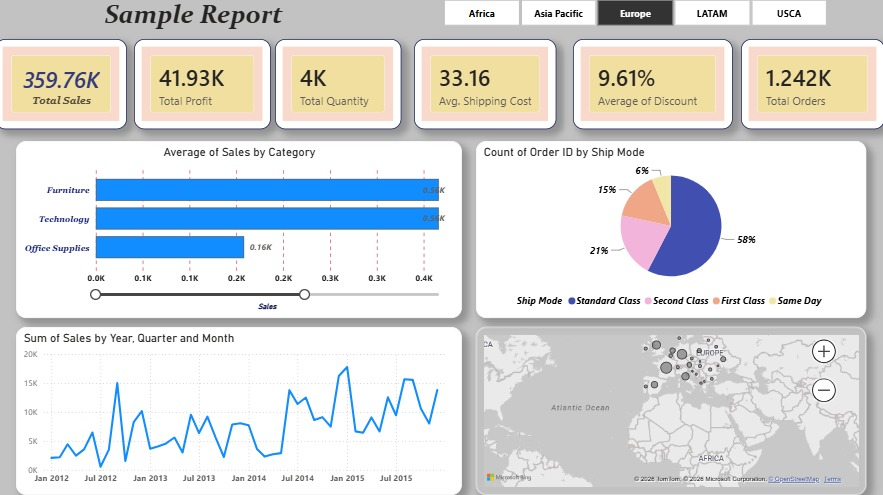

The page's visual inventory and layout, read from the dashboard file:
{"tool":"powerbi","page":{"name":"Page 1","canvas":[1280,720],"ordinal":0},"visuals":[{"type":"cardVisual","fields":{"Data":["Sum(Orders.Sales)"]},"box":[0,63.9,190.2,129.5],"z":0},{"type":"clusteredBarChart","fields":{"Category":["Orders.Category"],"Y":["Avg(Orders.Sales)"]},"box":[30,210,641.7,255],"z":1000},{"type":"textbox","box":[152.5,0,486.2,63.8],"z":2000},{"type":"cardVisual","fields":{"Data":["Sum(Orders.Profit)"]},"box":[200,63.9,196.7,129.5],"z":3000},{"type":"cardVisual","fields":{"Data":["Sum(Orders.Quantity)"]},"box":[403.3,63.9,182,129.5],"z":4000},{"type":"cardVisual","fields":{"Data":["Avg(Orders.Shipping Cost)"]},"box":[603.3,63.9,204.9,129.5],"z":5000},{"type":"cardVisual","fields":{"Data":["Avg(Orders.Discount)"]},"box":[832.8,63.9,229.5,129.5],"z":6000},{"type":"cardVisual","fields":{"Data":["CountNonNull(Orders.Order ID)"]},"box":[1073.8,63.9,206.6,129.5],"z":7000},{"type":"pieChart","fields":{"Category":["Orders.Ship Mode"],"Y":["CountNonNull(Orders.Order ID)"]},"box":[693.3,210,561.7,255],"z":8000},{"type":"lineChart","fields":{"Category":["Orders.Order Date.Variation.Date Hierarchy.Year","Orders.Order Date.Variation.Date Hierarchy.Quarter","Orders.Order Date.Variation.Date Hierarchy.Month","Orders.Order Date.Variation.Date Hierarchy.Day"],"Y":["Sum(Orders.Sales)"]},"box":[30,478.3,641.7,241.7],"z":9000},{"type":"map","fields":{"Category":["Orders.Country"],"Size":["CountNonNull(Orders.Order ID)"]},"box":[693.3,478.3,561.7,241.7],"z":10000},{"type":"slicer","fields":{"Values":["Orders.Market"]},"box":[620,0,601.2,51.2],"z":11000}]}

Visuals, with their boxes in screenshot pixels (x1, y1, x2, y2), scaled from the page's 1280x720 canvas onto the 883x495 screenshot:
cardVisual - Sum(Orders.Sales): <region>0, 44, 131, 133</region>
clusteredBarChart - Orders.Category x Avg(Orders.Sales): <region>21, 144, 463, 320</region>
textbox: <region>105, 0, 441, 44</region>
cardVisual - Sum(Orders.Profit): <region>138, 44, 274, 133</region>
cardVisual - Sum(Orders.Quantity): <region>278, 44, 404, 133</region>
cardVisual - Avg(Orders.Shipping Cost): <region>416, 44, 558, 133</region>
cardVisual - Avg(Orders.Discount): <region>575, 44, 733, 133</region>
cardVisual - CountNonNull(Orders.Order ID): <region>741, 44, 882, 133</region>
pieChart - Orders.Ship Mode x CountNonNull(Orders.Order ID): <region>478, 144, 866, 320</region>
lineChart - Orders.Order Date.Variation.Date Hierarchy.Year x Orders.Order Date.Variation.Date Hierarchy.Quarter: <region>21, 329, 463, 494</region>
map - Orders.Country x CountNonNull(Orders.Order ID): <region>478, 329, 866, 494</region>
slicer - Orders.Market: <region>428, 0, 842, 35</region>
